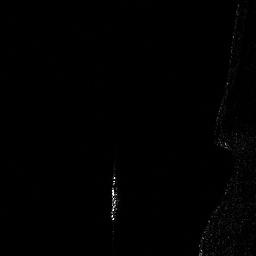ship: (110, 173, 119, 222)
